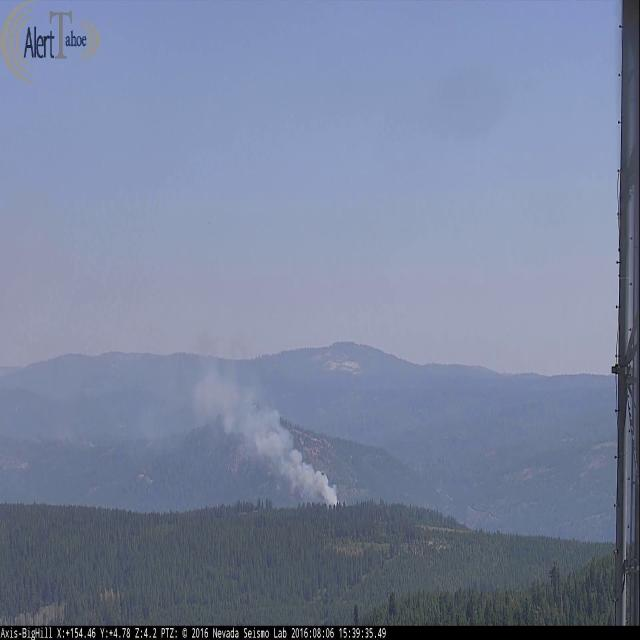smoke: (192, 329, 341, 511)
